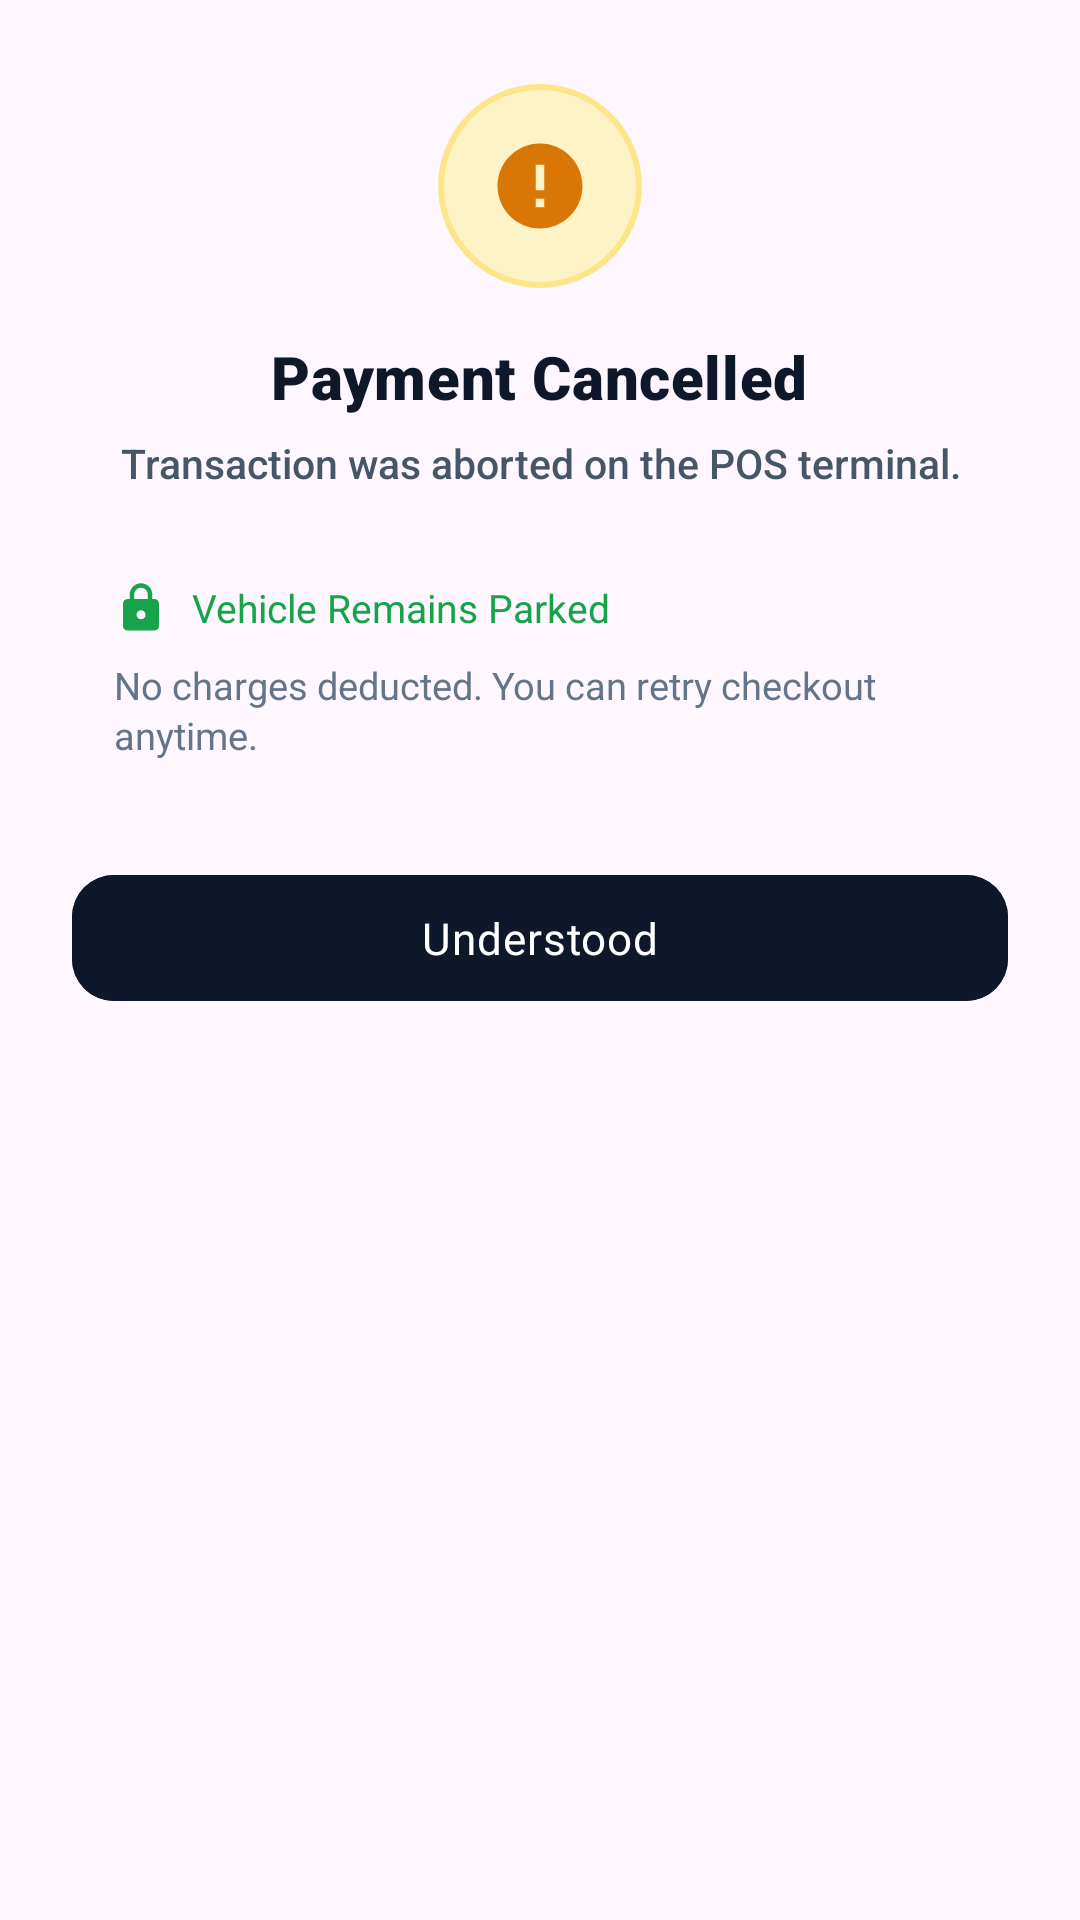

Where to tap for icons on this 1080×1920 app screen, as (x=x, y=y):
lock: (x=141, y=607)
Status Icon: (x=540, y=186)
